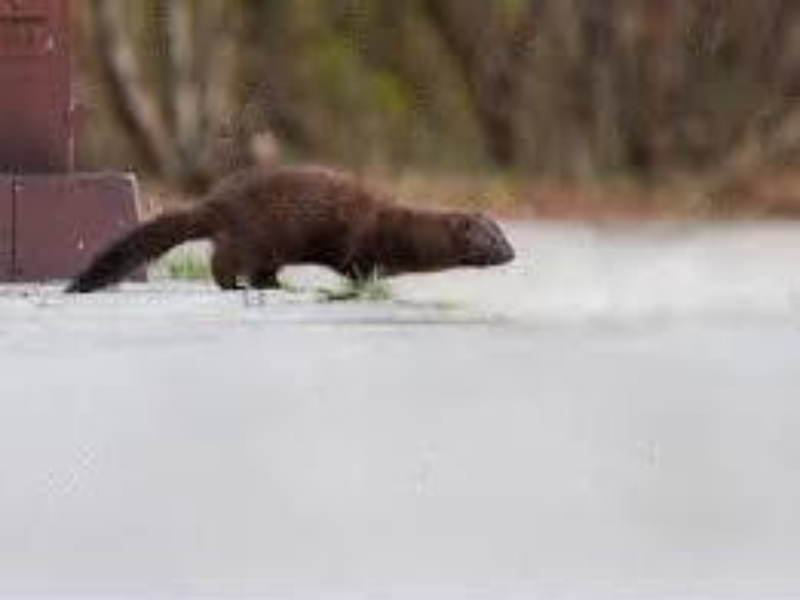minkish: (59, 166, 519, 297)
